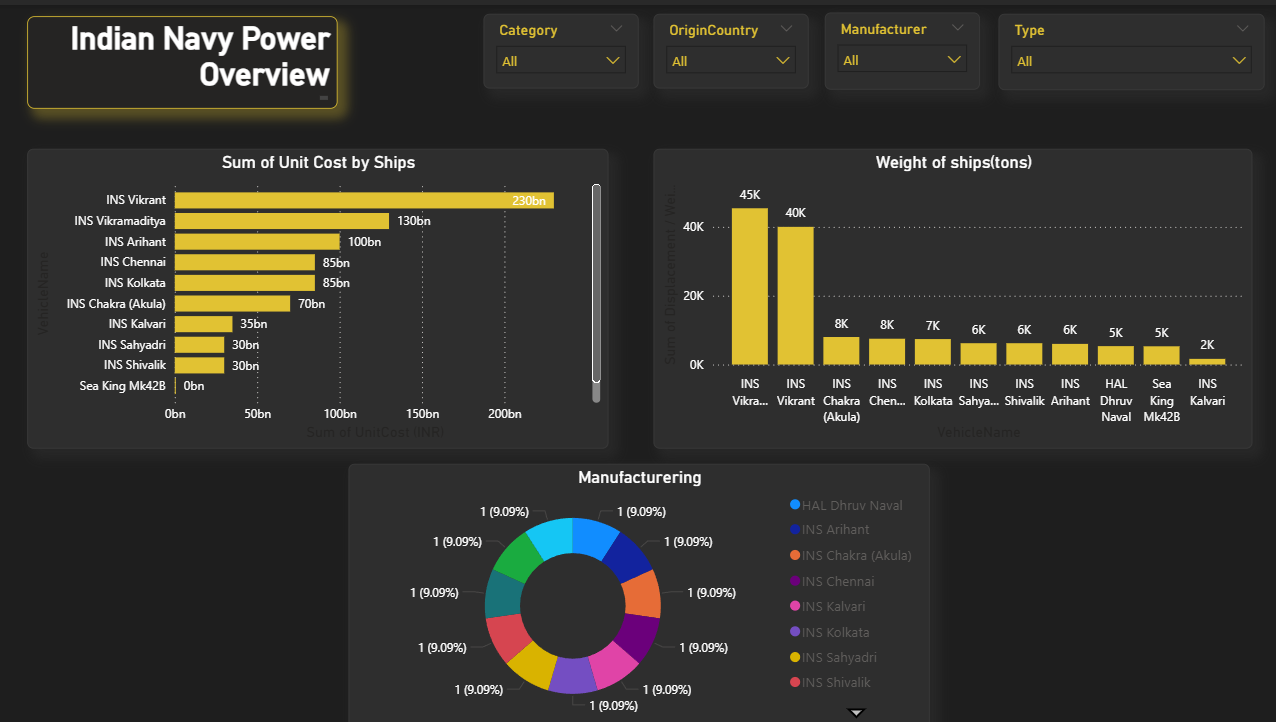

This screenshot's page, from the dashboard's own definition file:
{"tool":"powerbi","page":{"name":"Page 5","canvas":[1280,720],"ordinal":4},"visuals":[{"type":"textbox","title":"Indian Navy Power Overview","box":[31.1,11.2,308.5,92.1],"z":0},{"type":"slicer","fields":{"Values":["Navy.Category"]},"box":[485.1,8.7,154.3,74.6],"z":1000},{"type":"slicer","fields":{"Values":["Navy.OriginCountry"]},"box":[654.3,8.7,154.3,74.6],"z":2000},{"type":"slicer","fields":{"Values":["Navy.Manufacturer"]},"box":[824.7,7.5,154.3,77.1],"z":3000},{"type":"slicer","fields":{"Values":["Navy.Type"]},"box":[997.7,8.7,265,75.9],"z":4000},{"type":"barChart","title":"Sum of Unit Cost by Ships","fields":{"Category":["Navy.VehicleName"],"Y":["Sum(Navy.UnitCost (INR))"]},"box":[31.1,143.1,578.4,298.6],"z":5000},{"type":"columnChart","title":" Weight  of ships(tons)","fields":{"Category":["Navy.VehicleName"],"Y":["Sum(Navy.Displacement / Weight (tons))"]},"box":[654.3,143.1,595.9,298.6],"z":6000},{"type":"donutChart","title":" Manufacturering","fields":{"Category":["Navy.VehicleName"],"Y":["CountNonNull(Navy.Manufacturer)"]},"box":[350.8,456.5,578.4,263.7],"z":7000}]}

Visuals, with their boxes in screenshot pixels (x1, y1, x2, y2), scaled from the page's 1280x720 canvas onto the 1276x722 screenshot:
"Indian Navy Power Overview" textbox: <box>31,11,339,104</box>
slicer - Navy.Category: <box>484,9,637,84</box>
slicer - Navy.OriginCountry: <box>652,9,806,84</box>
slicer - Navy.Manufacturer: <box>822,8,976,85</box>
slicer - Navy.Type: <box>995,9,1259,85</box>
"Sum of Unit Cost by Ships" barChart: <box>31,143,608,443</box>
" Weight  of ships(tons)" columnChart: <box>652,143,1246,443</box>
" Manufacturering" donutChart: <box>350,458,926,721</box>
